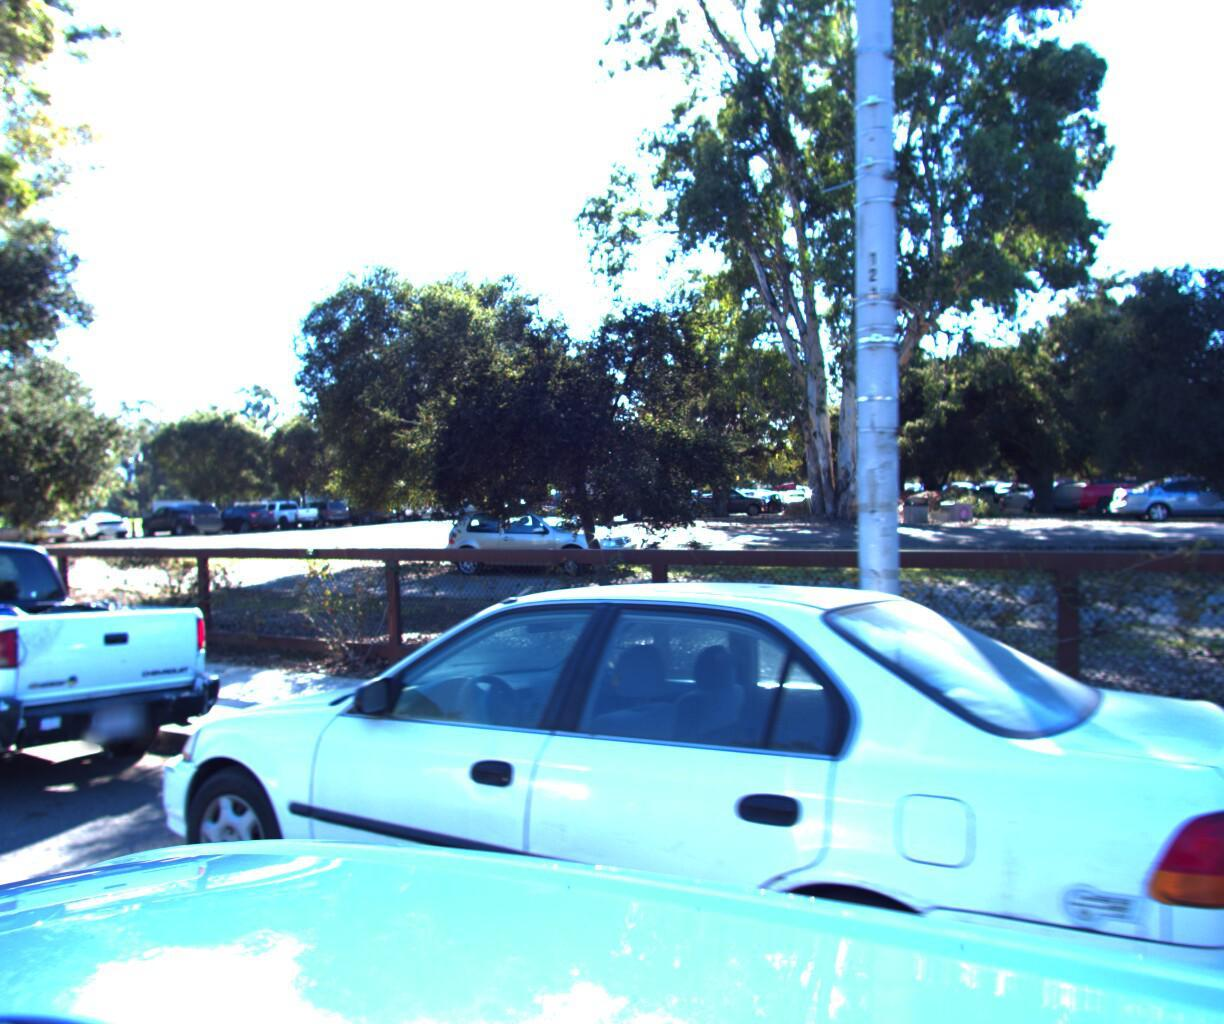car: (109, 560, 1224, 1024), (0, 525, 252, 840)
